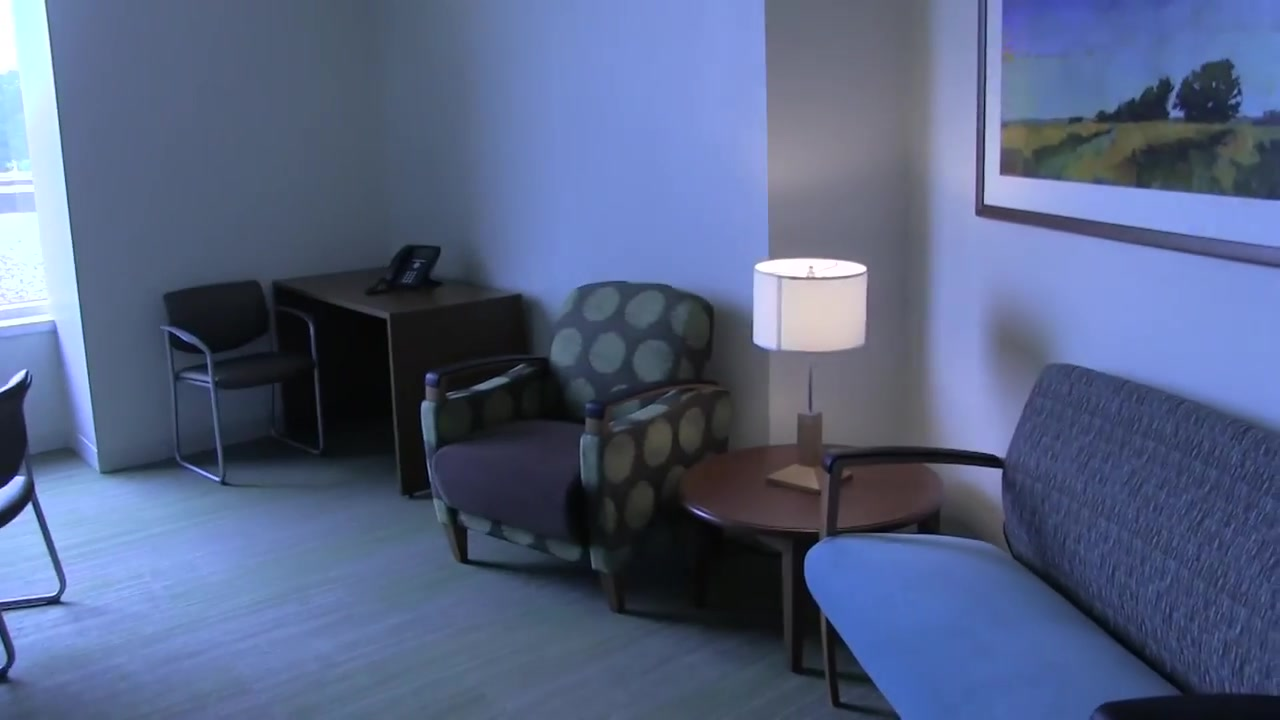chair: (158, 275, 328, 486), (1, 368, 70, 684)
sofa: (804, 358, 1280, 720), (420, 278, 736, 613)
table: (674, 442, 948, 672), (271, 264, 524, 499)
telephone: (381, 243, 442, 291)
